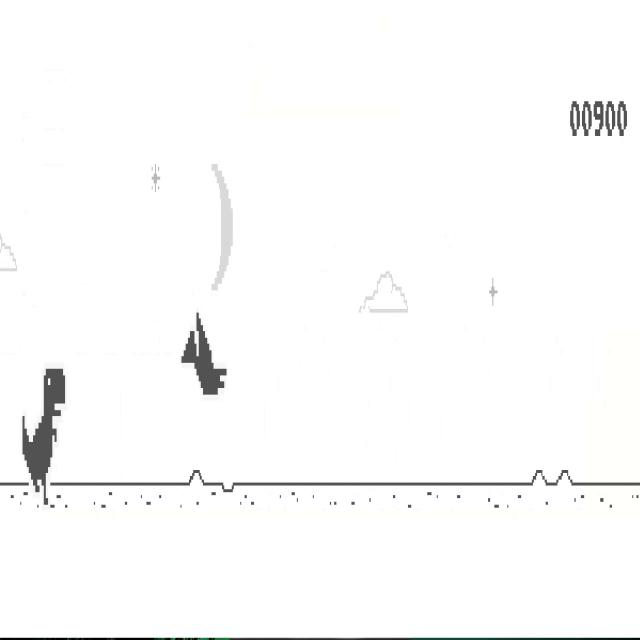dino: (22, 365, 66, 506)
ptero: (181, 310, 227, 398)
